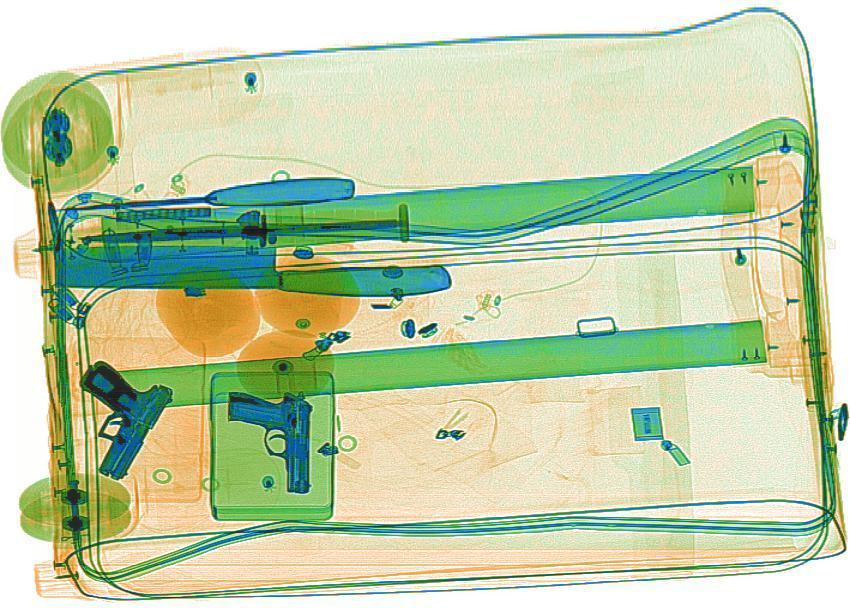Gun: (27, 357, 185, 484), (224, 388, 317, 494)
Knife: (54, 230, 452, 305), (51, 173, 357, 221), (74, 214, 398, 245)
